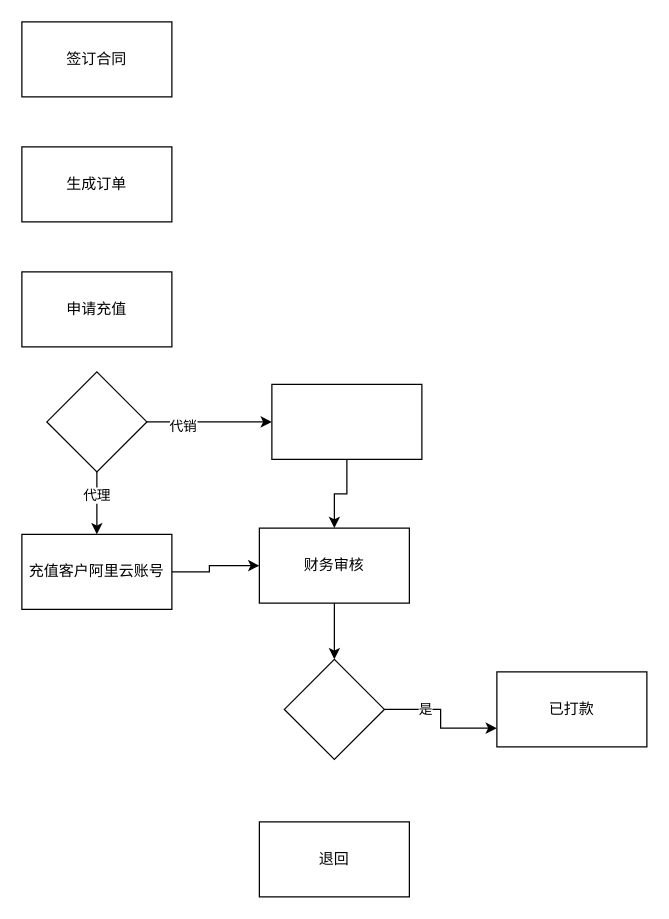
Image size: 669x919. Some labels were removed from this diagram. Here are the shapes that lost their labels. From the top down, the box of each, then its label:
(46, 371, 147, 472): 充值类型
(271, 383, 422, 459): 充值分销账号
(283, 658, 384, 759): 是否到账
